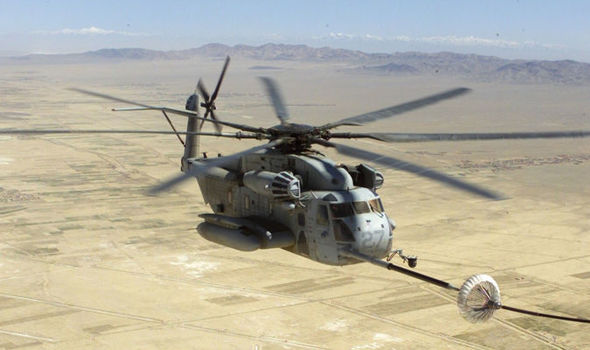MilitaryHelicopter: (79, 59, 449, 299)
